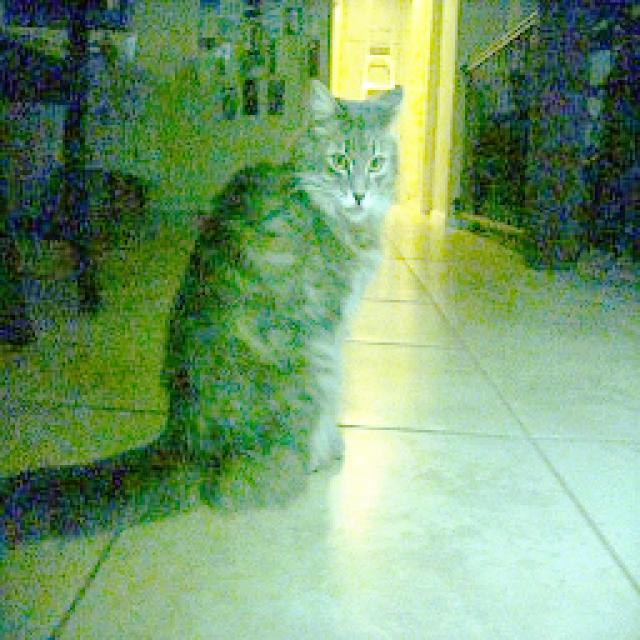cat: (6, 72, 407, 534)
